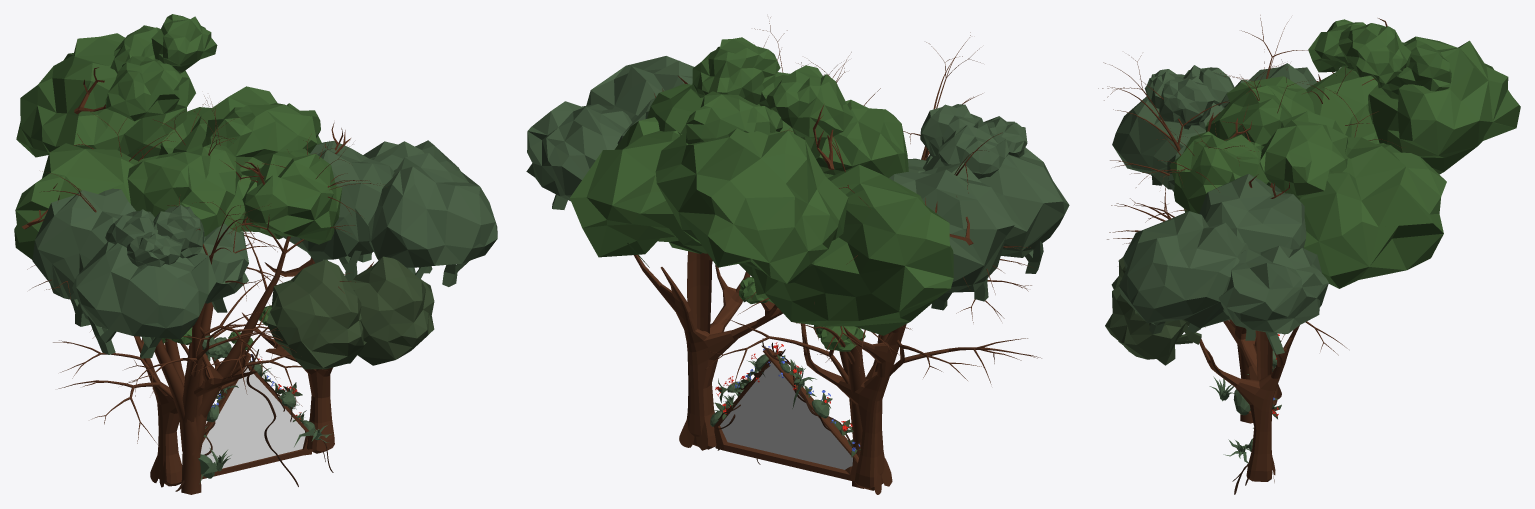
File: fehm.fbx
3 renders of one model, left to right at view 1: azimuth 30°, elevation 25°; view 2: azimuth 150°, elevation 25°; view 3: azimuth 270°, elevation 25°, orthographic. The views are drawn at different scales.
Visible parts, largest first — view 1: Plane.001, tree, Plane.002; view 2: Plane.001, Plane.002, tree; view 3: Plane.001, tree.
Boxes of the visible parts, box(x1,y1,x2,y2) form: Plane.001: box(14, 14, 497, 491); tree: box(27, 96, 380, 494); Plane.002: box(200, 366, 305, 468); Plane.001: box(526, 37, 1069, 494); Plane.002: box(720, 362, 852, 469); tree: box(705, 17, 1041, 488); Plane.001: box(1105, 18, 1520, 494); tree: box(1098, 15, 1405, 423).
Size of the model in its own units: 3017 by 2934 by 2597.
